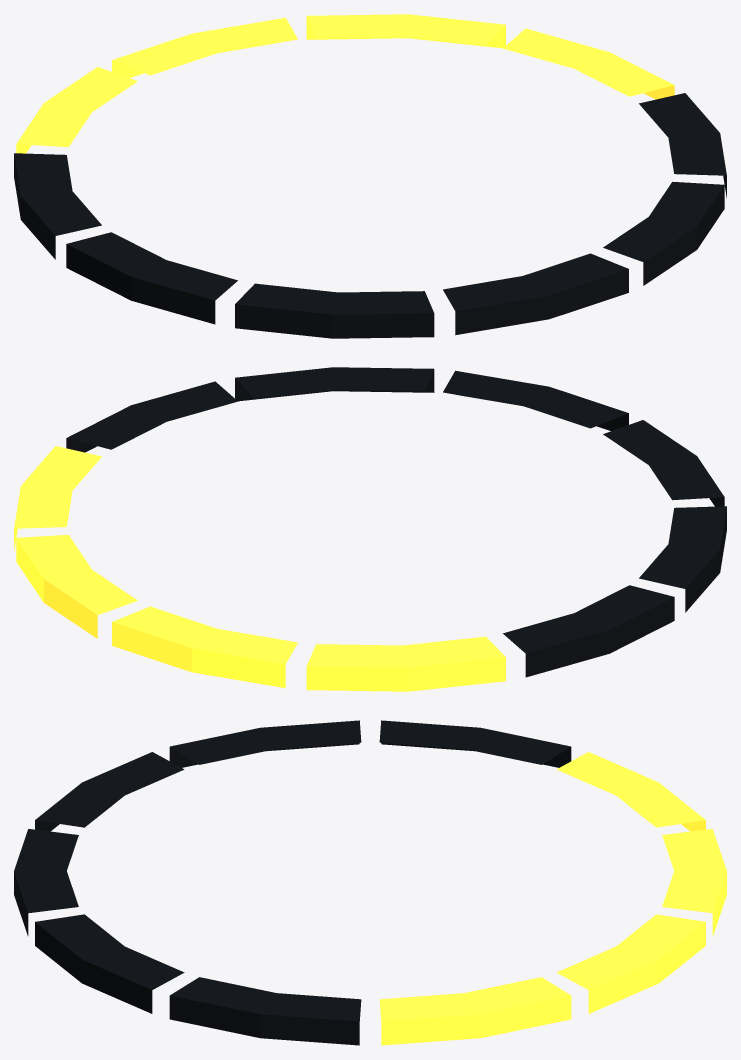
File: hpr_4.glb
The picture shows the model from 3 angles, top to bottom: view 1: azimuth 30°, elevation 25°; view 2: azimuth 150°, elevation 25°; view 3: azimuth 270°, elevation 25°; orthographic projection.
Visible parts, largest first — view 1: hpr_4; view 2: hpr_4; view 3: hpr_4.
Boxes of the visible parts, x1,y1,x2,y2 form: hpr_4: [14, 14, 726, 338]; hpr_4: [14, 367, 726, 691]; hpr_4: [14, 720, 726, 1045].
Bounding box in the file's own units: 2.16 × 0.08 × 2.16.
